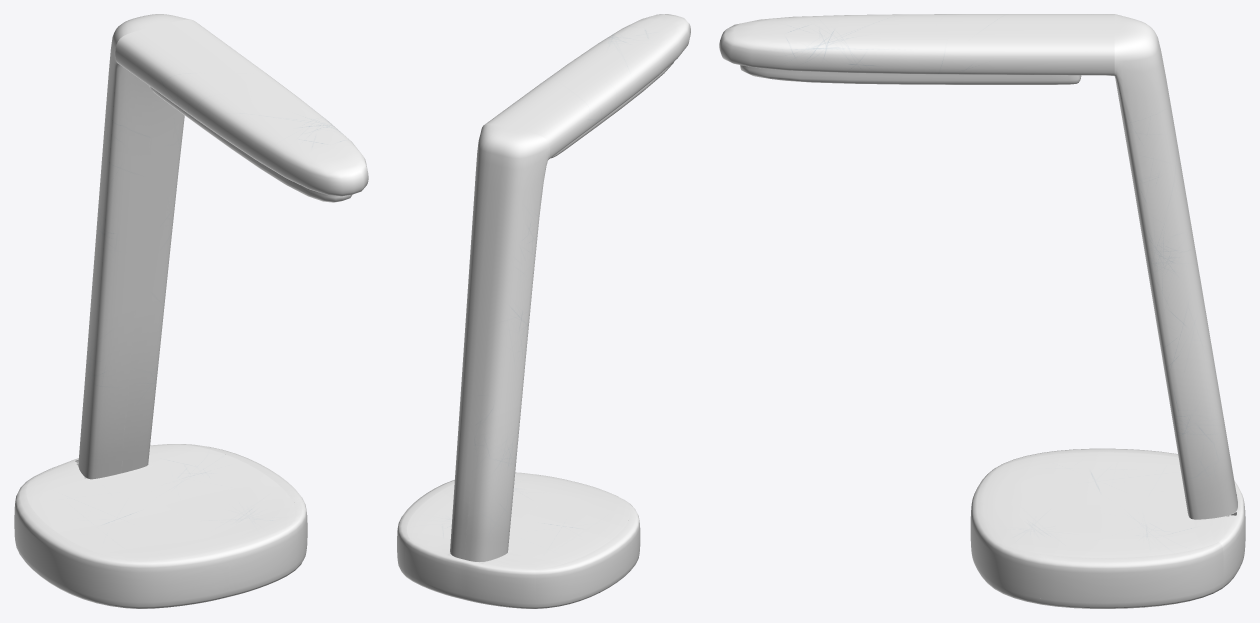
The model's file is Light.fbx.
3 renders of one model, left to right at view 1: azimuth 30°, elevation 25°; view 2: azimuth 150°, elevation 25°; view 3: azimuth 270°, elevation 25°, orthographic. The views are drawn at different scales.
Visible parts, largest first — view 1: dodai_OBJ, chuukan_OBJ, uplight_OBJ, light_OBJ; view 2: chuukan_OBJ, dodai_OBJ, uplight_OBJ, light_OBJ; view 3: dodai_OBJ, chuukan_OBJ, uplight_OBJ, light_OBJ.
Boxes of the visible parts, bbox=[...] form: dodai_OBJ: bbox=[14, 444, 307, 608]; chuukan_OBJ: bbox=[78, 14, 189, 479]; uplight_OBJ: bbox=[115, 19, 368, 196]; light_OBJ: bbox=[149, 86, 351, 202]; chuukan_OBJ: bbox=[450, 123, 549, 561]; dodai_OBJ: bbox=[397, 472, 640, 608]; uplight_OBJ: bbox=[485, 14, 690, 158]; light_OBJ: bbox=[551, 62, 673, 158]; dodai_OBJ: bbox=[970, 448, 1245, 608]; chuukan_OBJ: bbox=[1114, 14, 1237, 519]; uplight_OBJ: bbox=[719, 14, 1114, 76]; light_OBJ: bbox=[740, 65, 1081, 84].
Bounding box in the file's own units: 3.75 × 7.71 × 7.01.
4 materials, 3 textured.
